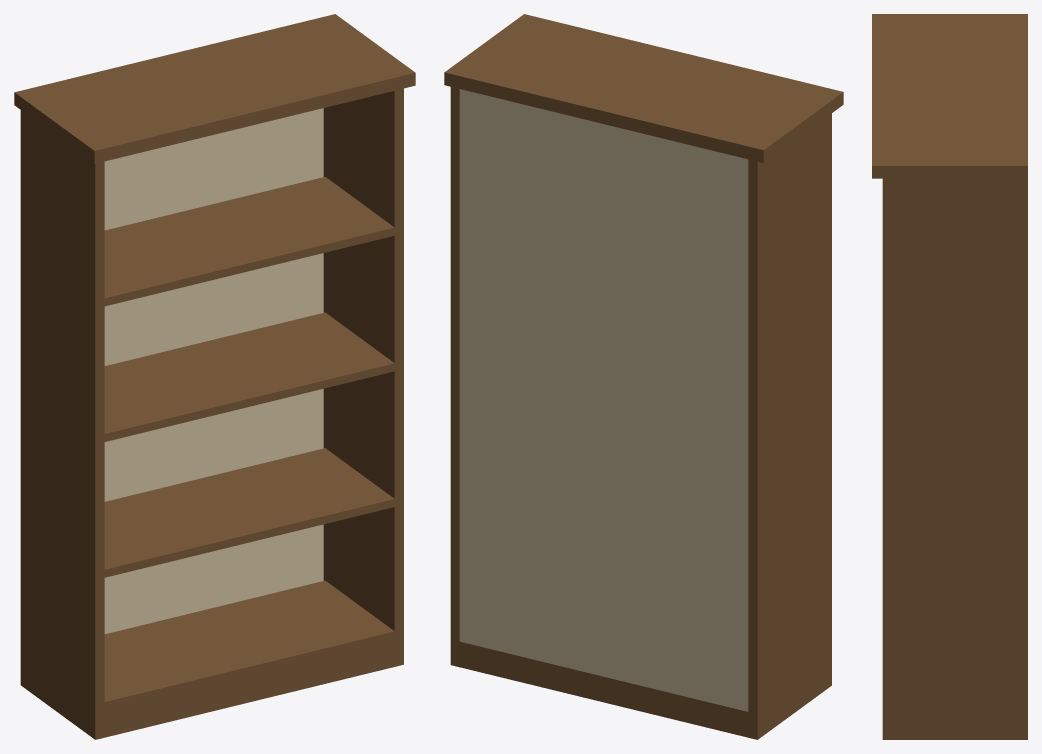
File: Prop_YTM_LinenCupboard_LOD1.glb
3 views of the same model, side by side, from view 1: azimuth 30°, elevation 25°; view 2: azimuth 150°, elevation 25°; view 3: azimuth 270°, elevation 25° (orthographic). The views are drawn at different scales.
Parts seen in each view (by area): view 1: Prop_YTM_LinenCupboard; view 2: Prop_YTM_LinenCupboard; view 3: Prop_YTM_LinenCupboard.
Boxes of the visible parts, box(x1,y1,x2,y2) form: Prop_YTM_LinenCupboard: box(14, 14, 415, 739); Prop_YTM_LinenCupboard: box(444, 14, 843, 739); Prop_YTM_LinenCupboard: box(872, 14, 1027, 739).
Bounding box in the file's own units: 1.04 × 1.84 × 0.45.
